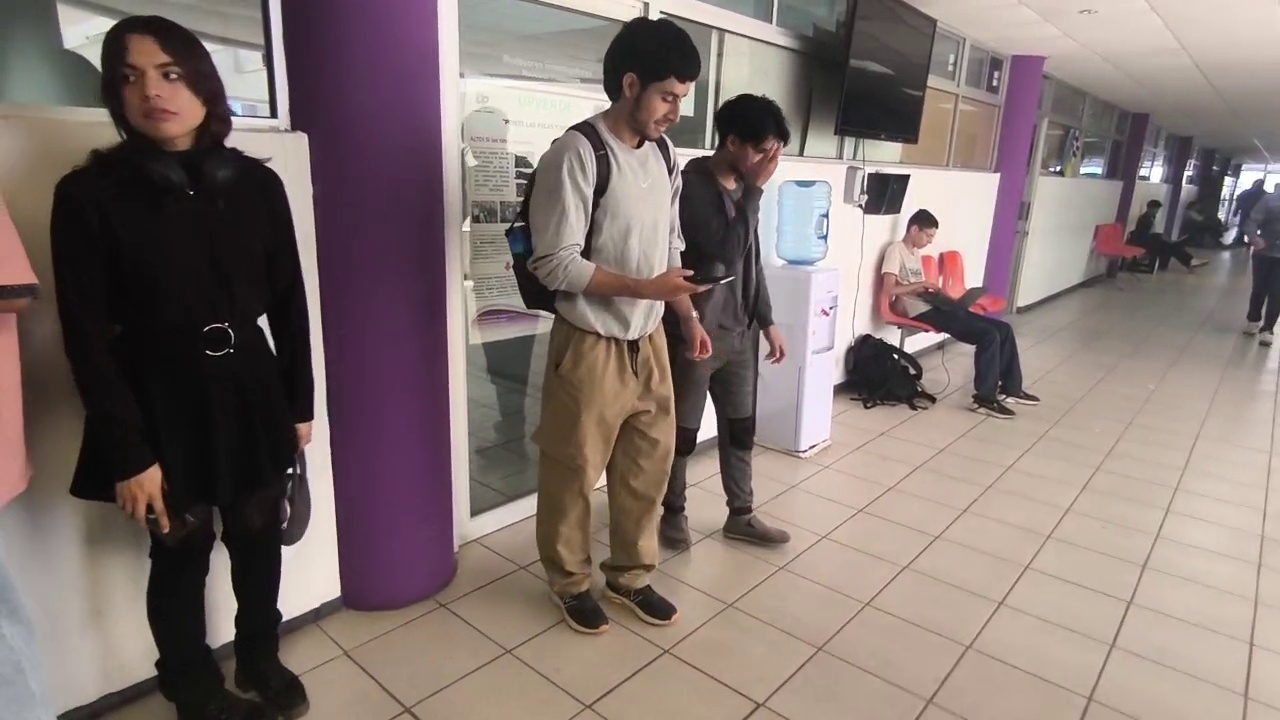mixto2: (139, 492, 203, 552), (681, 271, 739, 290)
